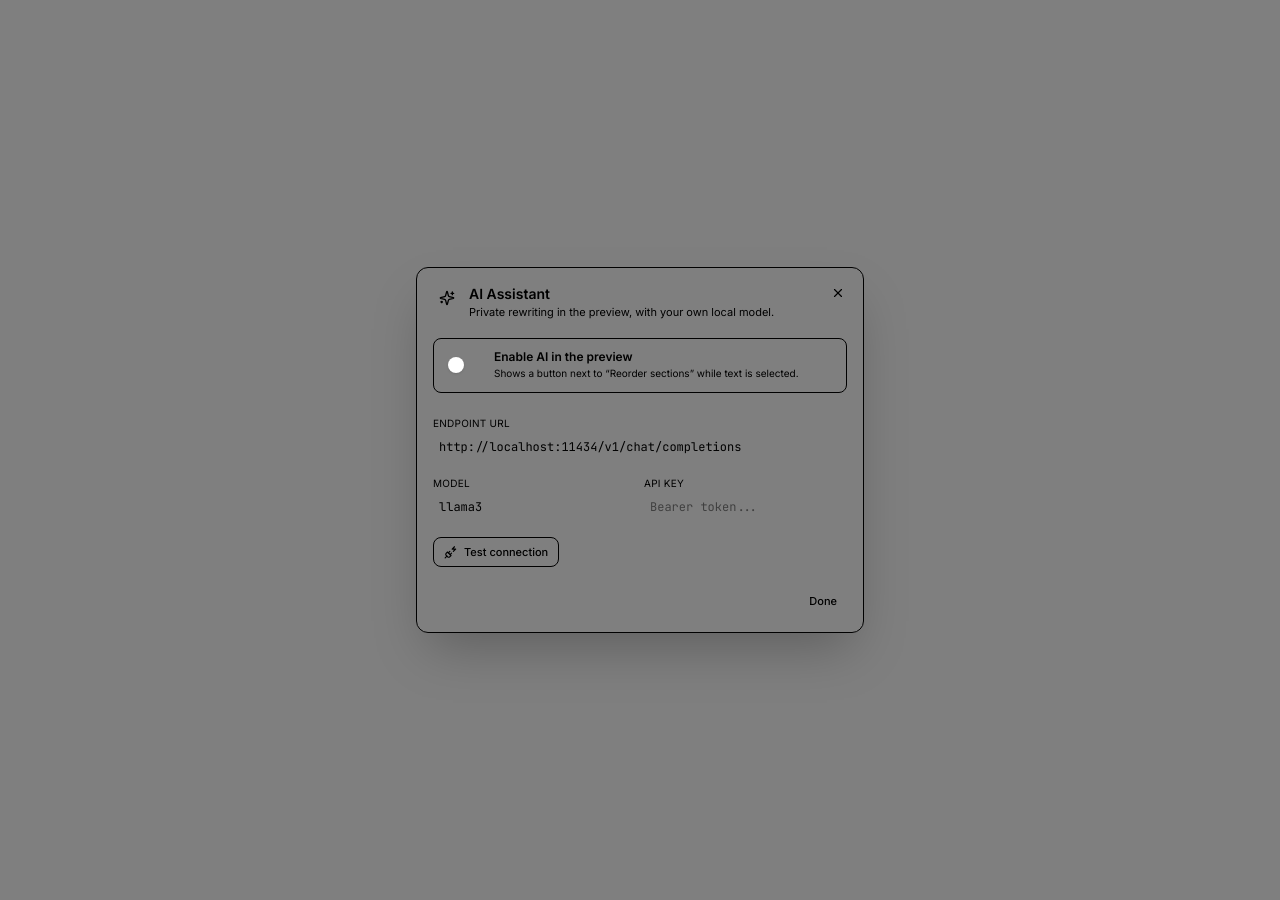
Scenario: AIAssistantModal › complains when the endpoint answers with nothing
Click the button "Test connection" at (496, 552), box [433,537,559,567]
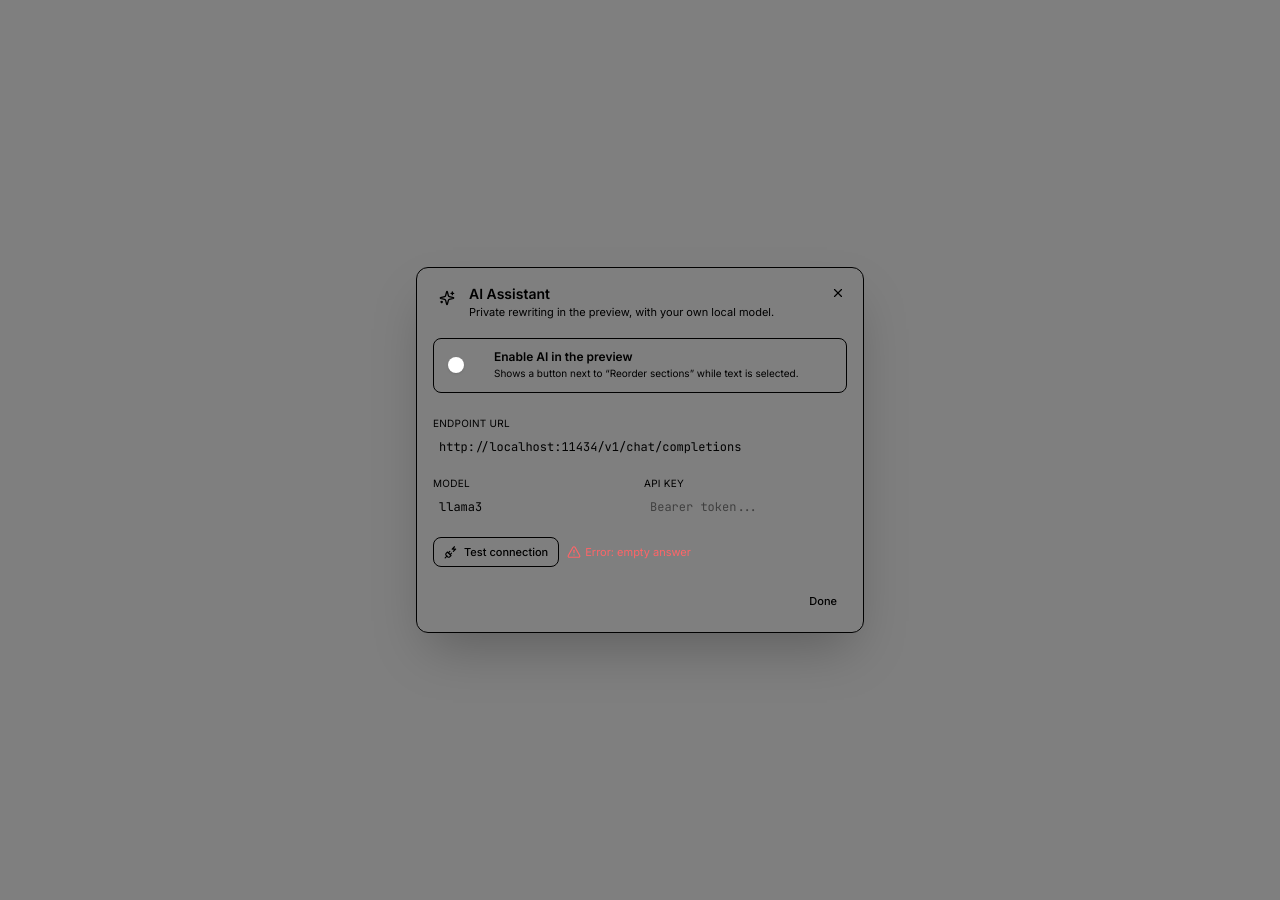
Expected: the text "Error: empty answer" is shown, [567,544,691,560]
